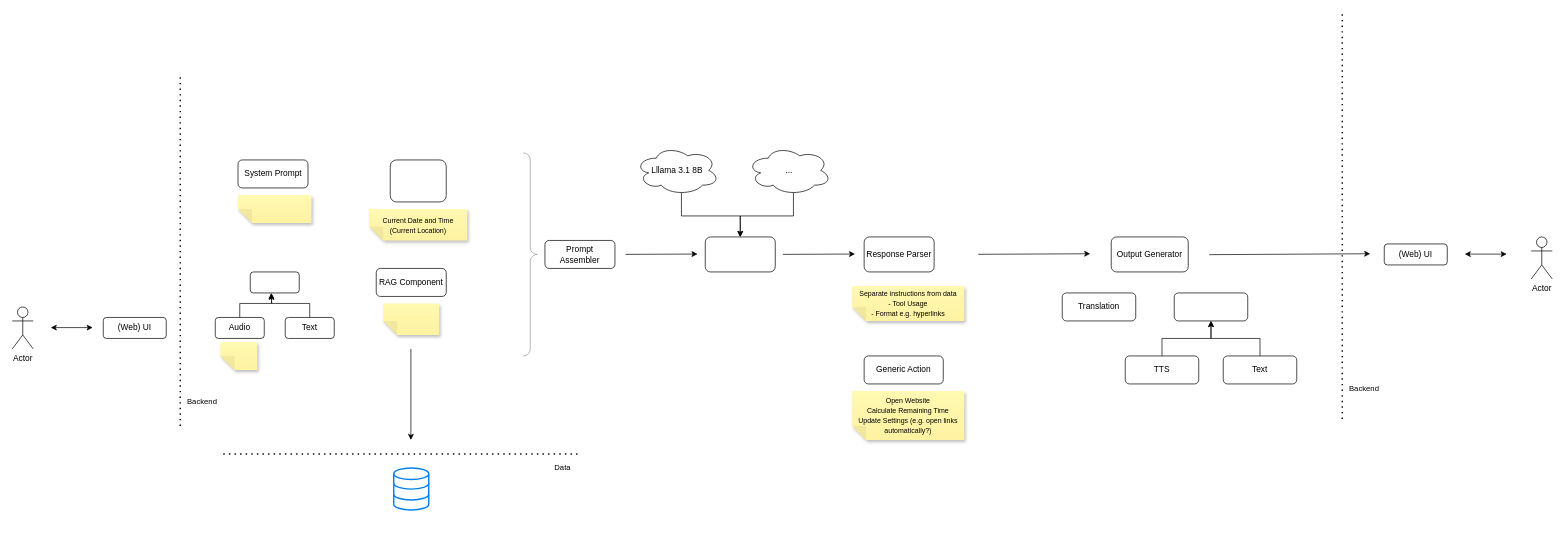
The diagram is 1565 pixels wide and 536 high, and some of its shapes have lost their labels. Here are the shapes that lost their labels. From the top down, the centre of each, then its label:
At pixel 418 180: "Contextual Information Provider".
At pixel 275 209: "Adapt continuously?".
At pixel 740 254: "LLM Client".
At pixel 274 282: "Input".
At pixel 411 320: "Embedding Similarity".
At pixel 1211 306: "Output Modality".
At pixel 239 356: "ASR".
At pixel 411 488: "Database".
